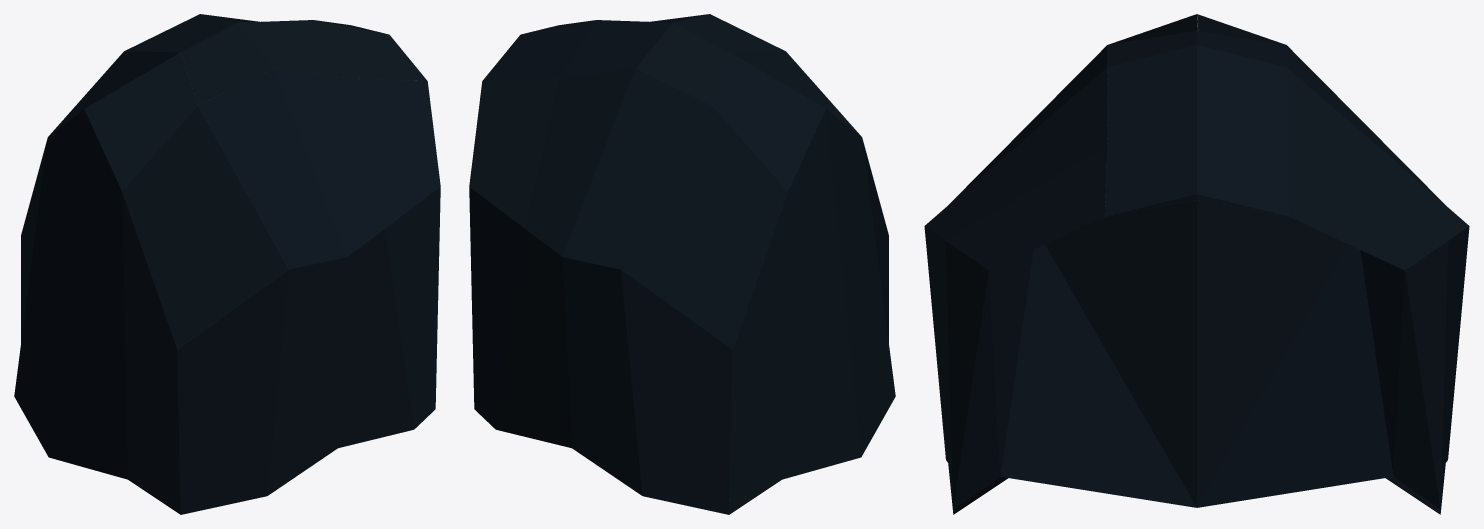
The model's file is sombreroMuerte.obj.
The picture shows the model from 3 angles, left to right: view 1: azimuth 30°, elevation 25°; view 2: azimuth 150°, elevation 25°; view 3: azimuth 270°, elevation 25°; orthographic projection. The views are drawn at different scales.
Visible parts, largest first — view 1: Cube.001; view 2: Cube.001; view 3: Cube.001.
Boxes of the visible parts, box(x1,y1,x2,y2) form: Cube.001: box(14, 14, 440, 514); Cube.001: box(469, 14, 895, 514); Cube.001: box(924, 14, 1469, 514).
Bounding box in the file's own units: 2.24 × 2.51 × 2.56.
Materials: 1 (1 with a texture image).
